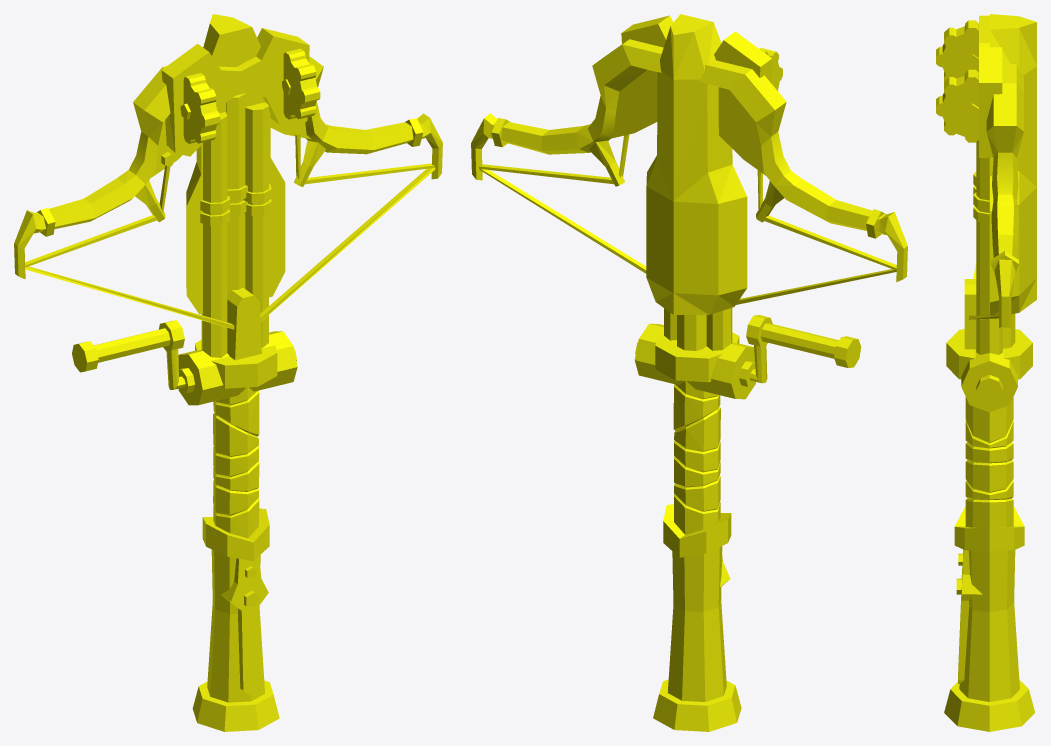
Rendered from _crossbow_6.glb.
3 renders of one model, left to right at view 1: azimuth 30°, elevation 25°; view 2: azimuth 150°, elevation 25°; view 3: azimuth 270°, elevation 25°, orthographic.
Parts seen in each view (by area): view 1: crossbow_6; view 2: crossbow_6; view 3: crossbow_6.
Boxes of the visible parts, x1,y1,x2,y2 form: crossbow_6: [14, 14, 442, 731]; crossbow_6: [471, 14, 907, 731]; crossbow_6: [936, 14, 1036, 731].
Bounding box in the file's own units: 0.5689 × 0.8723 × 0.1154.
Materials: 1 (1 with a texture image).
